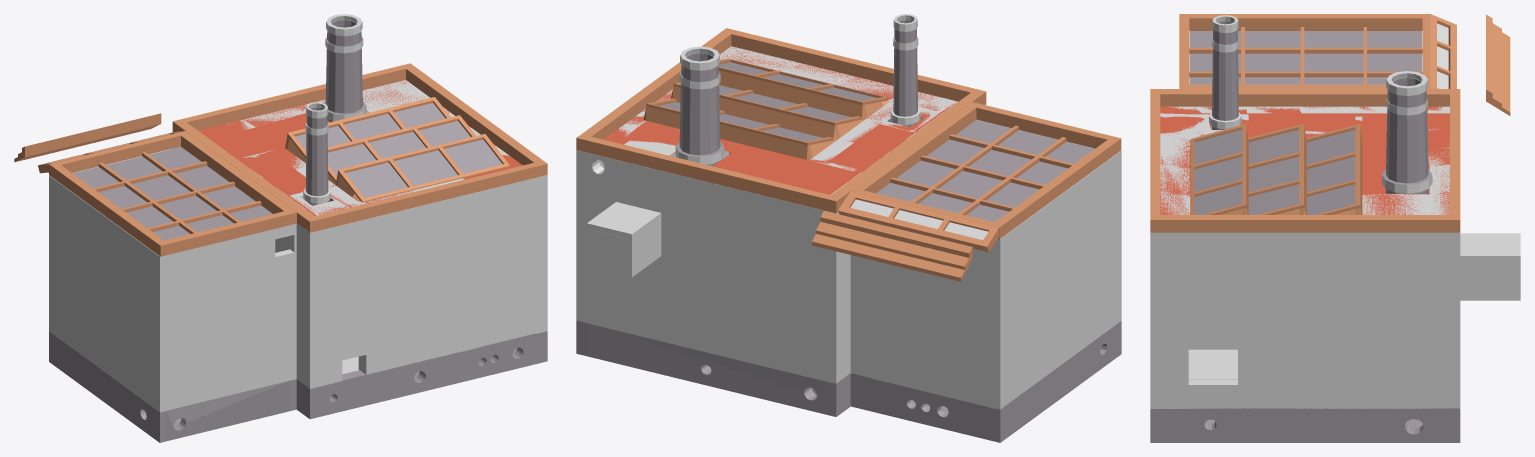
Rendered from factory.fbx.
3 views of the same model, side by side, from view 1: azimuth 30°, elevation 25°; view 2: azimuth 150°, elevation 25°; view 3: azimuth 270°, elevation 25° (orthographic). The views are drawn at different scales.
Visible parts, largest first — view 1: Plane, Plane.003, Plane.006, Plane.008, Plane.001, Plane.002, Cylinder, Cylinder.001, Snetak2; view 2: Plane, Plane.003, Plane.006, Plane.008, Plane.001, Plane.002, Snetak2, Cylinder, Snetak1, Cylinder.001; view 3: Plane, Plane.006, Plane.008, Plane.001, Cylinder, Cylinder.001, Snetak2, Snetak1.
Part boxes in pixels (x1,y1,x2,y2): Plane: (275, 111, 547, 388); Plane.003: (49, 149, 296, 412); Plane.006: (172, 63, 547, 232); Plane.008: (49, 131, 296, 256); Plane.001: (296, 331, 547, 419); Plane.002: (49, 331, 296, 442); Cylinder: (324, 14, 366, 201); Cylinder.001: (303, 102, 330, 205); Snetak2: (14, 113, 161, 162); Plane: (576, 104, 986, 394); Plane.003: (850, 119, 1121, 409); Plane.006: (576, 28, 986, 213); Plane.008: (850, 102, 1121, 239); Plane.001: (576, 320, 850, 416); Plane.002: (850, 321, 1121, 442); Snetak2: (812, 211, 972, 281); Cylinder: (675, 46, 724, 166); Snetak1: (838, 191, 999, 252); Cylinder.001: (890, 14, 920, 126); Plane: (1150, 126, 1520, 408); Plane.006: (1150, 89, 1460, 232); Plane.008: (1179, 14, 1430, 88); Plane.001: (1150, 408, 1460, 442); Cylinder: (1381, 71, 1432, 193); Cylinder.001: (1209, 15, 1241, 129); Snetak2: (1486, 14, 1510, 115); Snetak1: (1430, 14, 1456, 88).
Bounding box in the file's own units: 1577 × 1117 × 1195.
